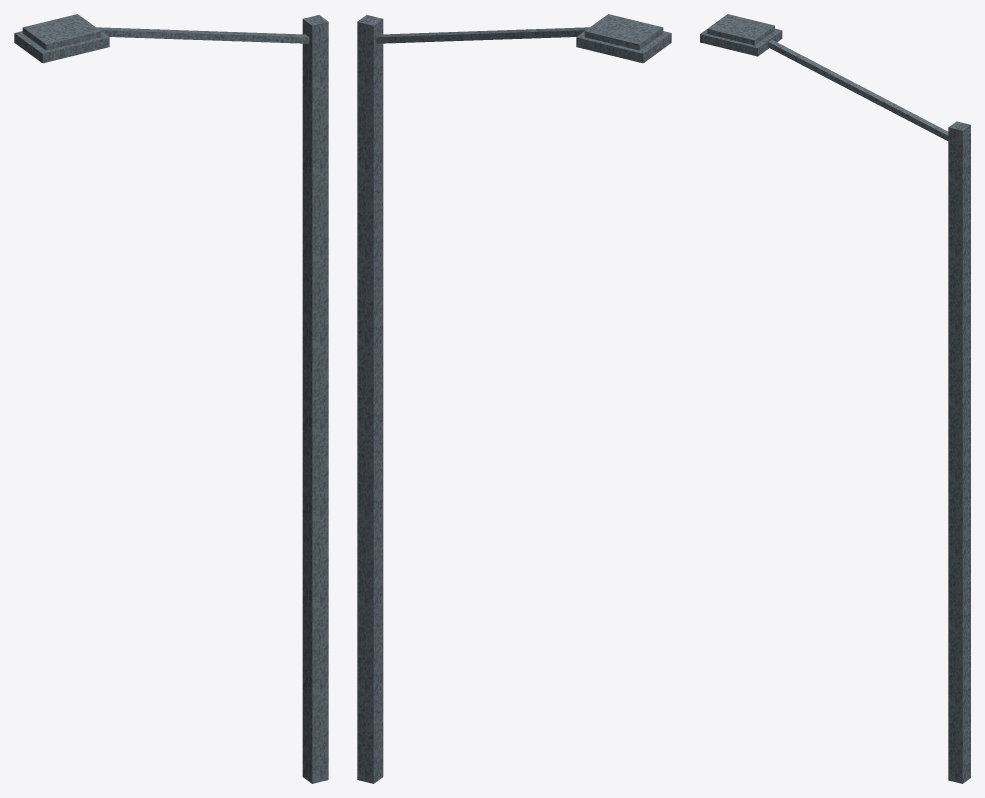
The model's file is BLOCKYGON_STREET LIGHT (BASIC).fbx.
3 renders of one model, left to right at view 1: azimuth 30°, elevation 25°; view 2: azimuth 150°, elevation 25°; view 3: azimuth 330°, elevation 25°, orthographic. The views are drawn at different scales.
Visible parts, largest first — view 1: BLOCKYGON_STREET_LIGHT__BASIC_; view 2: BLOCKYGON_STREET_LIGHT__BASIC_; view 3: BLOCKYGON_STREET_LIGHT__BASIC_.
Boxes of the visible parts, bbox=[...] form: BLOCKYGON_STREET_LIGHT__BASIC_: bbox=[14, 14, 328, 783]; BLOCKYGON_STREET_LIGHT__BASIC_: bbox=[357, 14, 671, 783]; BLOCKYGON_STREET_LIGHT__BASIC_: bbox=[700, 14, 970, 783].
Size of the model in its own units: 357 by 935 by 59.35.
